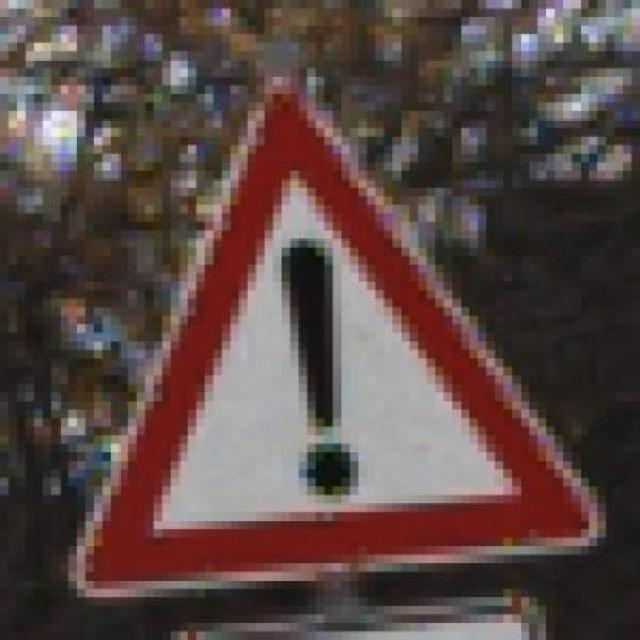Attention Please-: (51, 76, 614, 581)
